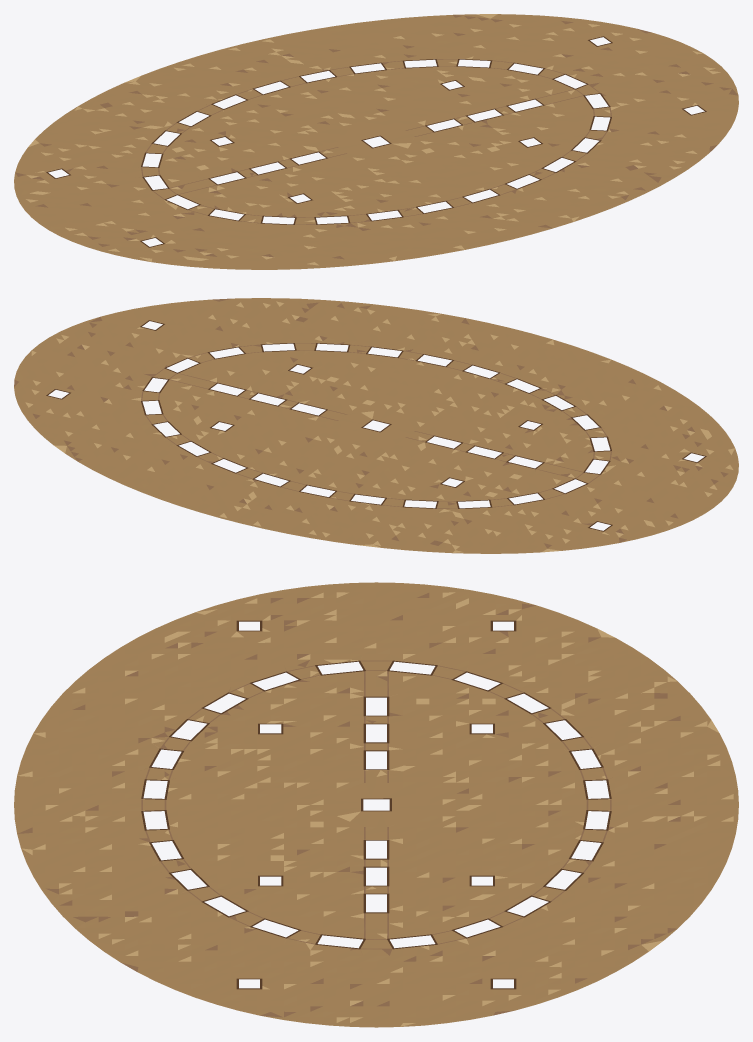
File: SM_ColFloor.fbx
The picture shows the model from 3 angles, top to bottom: view 1: azimuth 30°, elevation 25°; view 2: azimuth 150°, elevation 25°; view 3: azimuth 270°, elevation 25°; orthographic projection. The views are drawn at different scales.
Visible parts, largest first — view 1: SM_ColFloor; view 2: SM_ColFloor; view 3: SM_ColFloor.
Boxes of the visible parts, <box> form: SM_ColFloor: <box>14,14,738,269</box>; SM_ColFloor: <box>14,298,738,553</box>; SM_ColFloor: <box>14,582,738,1027</box>.
Size of the model in its own units: 199 by 137 by 0.024.
